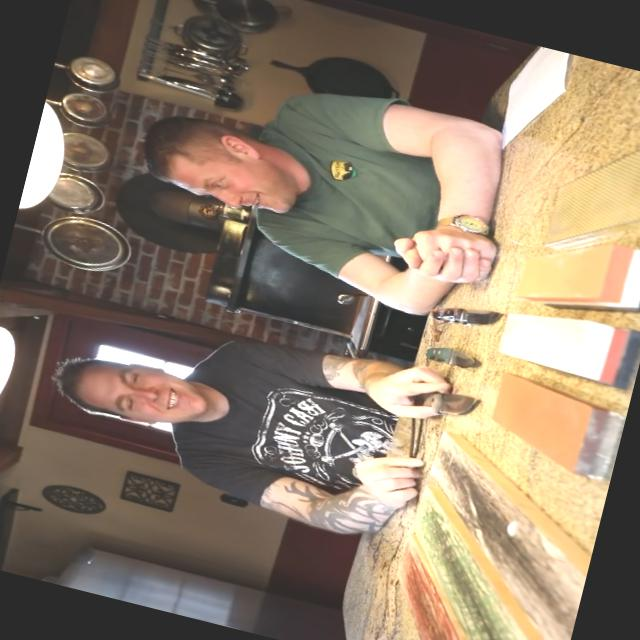knife: (392, 361, 492, 437)
